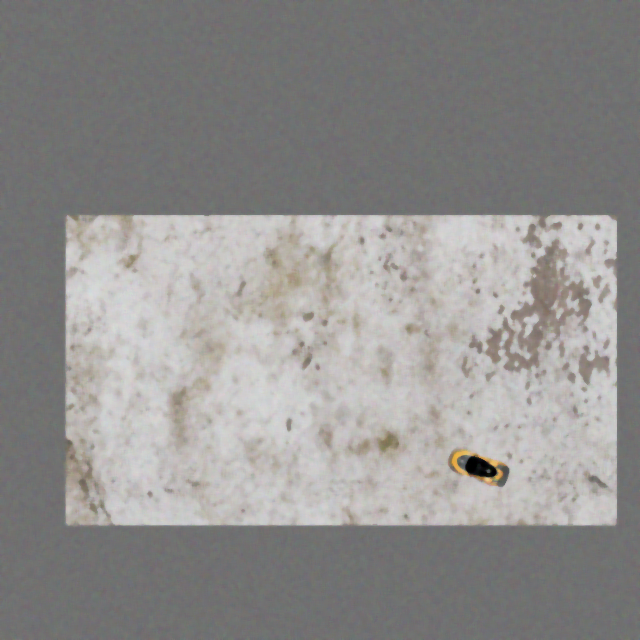car: (446, 444, 513, 491)
